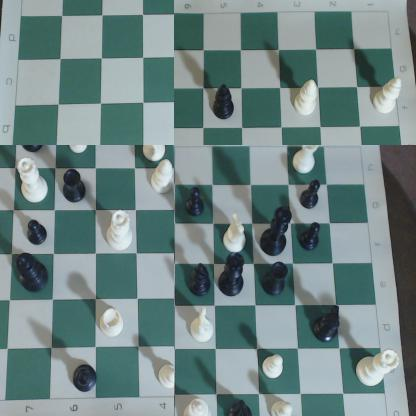black-bishop: (207, 82, 237, 127), (188, 264, 213, 295), (73, 365, 99, 394)
black-king: (260, 205, 294, 258), (15, 251, 55, 294)
black-knight: (313, 306, 342, 343), (227, 399, 255, 416), (21, 146, 51, 155)
black-pawn: (25, 215, 51, 247), (301, 179, 322, 210), (301, 221, 322, 252), (185, 188, 206, 218)
black-queen: (217, 251, 246, 298)
black-rook: (60, 166, 89, 204), (265, 262, 289, 299)
white-bishop: (373, 75, 402, 121), (295, 78, 320, 120), (152, 158, 174, 199)
white-king: (182, 396, 215, 416)
white-knight: (224, 213, 249, 255), (191, 307, 215, 345), (142, 146, 167, 162)
white-pawn: (262, 354, 287, 380), (156, 359, 174, 395), (271, 400, 295, 416), (66, 146, 94, 156)
white-queen: (357, 348, 401, 387), (16, 157, 49, 205), (104, 210, 138, 251)
white-rook: (99, 305, 126, 341), (292, 146, 320, 175)
